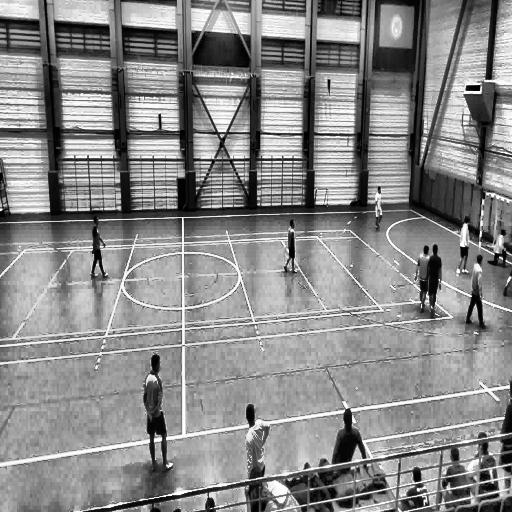player: (146, 352, 176, 474), (245, 404, 270, 512), (464, 252, 486, 327), (92, 216, 109, 281), (416, 245, 430, 315), (456, 215, 471, 275), (488, 228, 507, 266), (284, 219, 296, 273), (503, 233, 512, 297), (375, 186, 383, 230)
